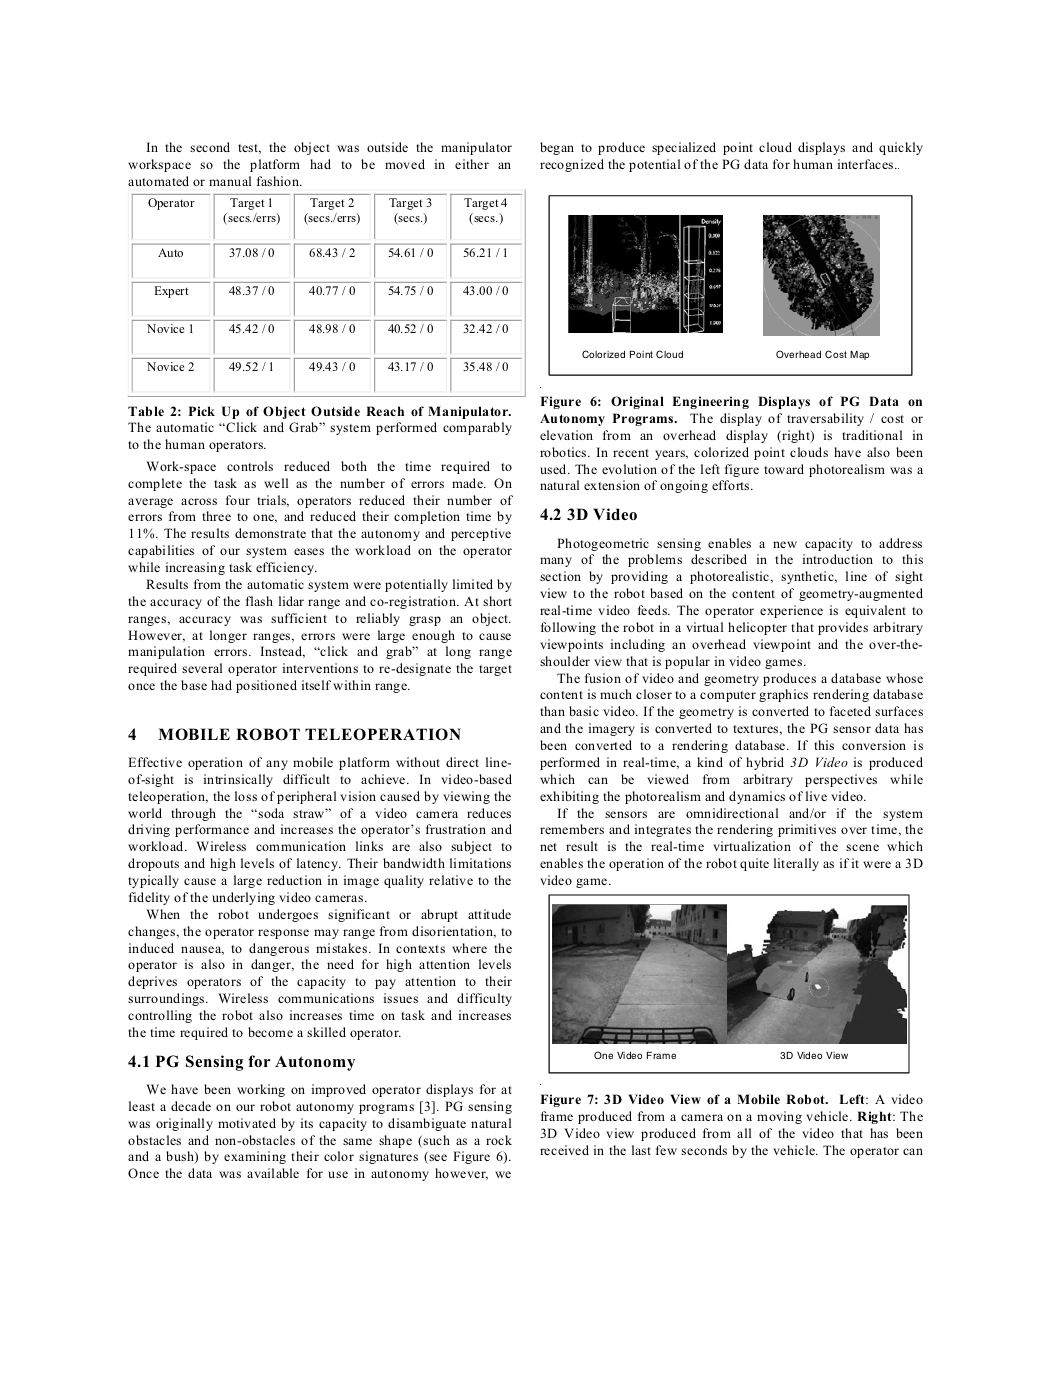Table: (128, 189, 525, 395)
figure: (548, 194, 912, 376), (548, 892, 909, 1074)
